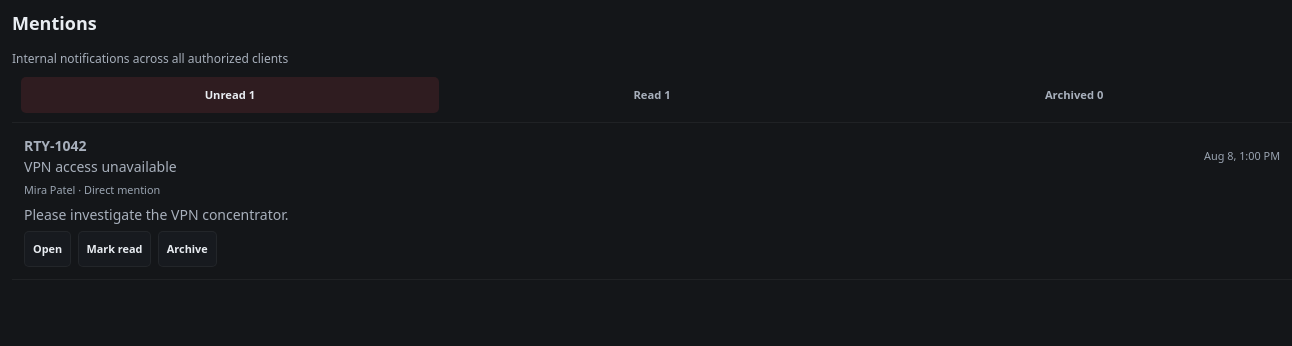
Scenario: MentionsWidget › reloads the current tab after a late Open version conflict
Click the button with aria-label "Open RTY-1042" at (48, 249), box [24,231,71,267]
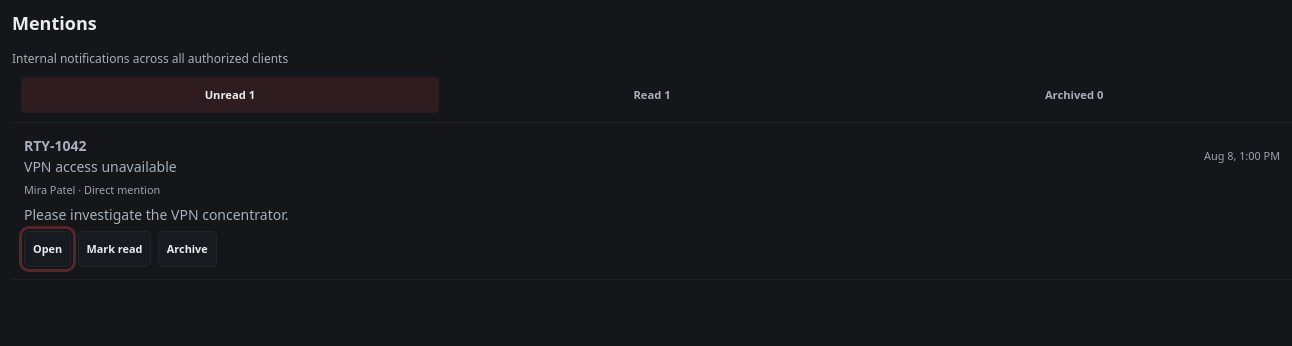
Click the tab "Read 1" at (652, 95), box [443,77,861,113]
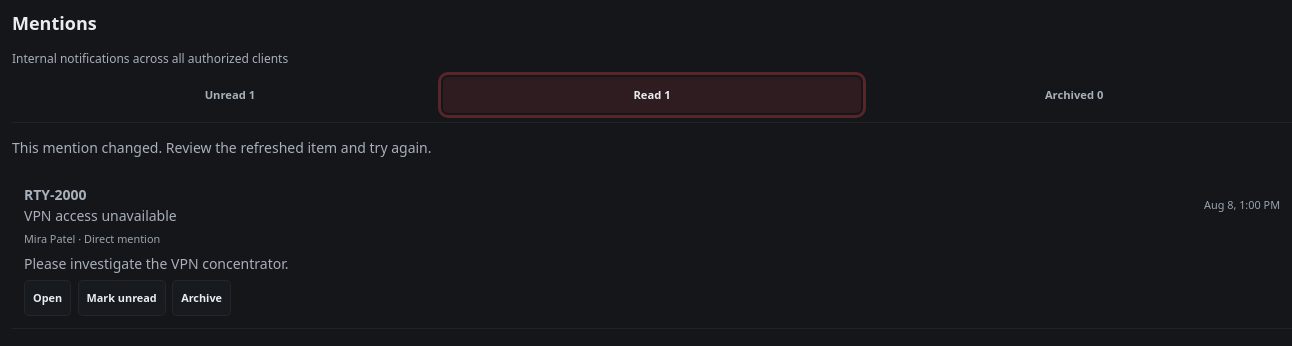
Expected: the text "RTY-2000" is shown, [24,185,87,204]
